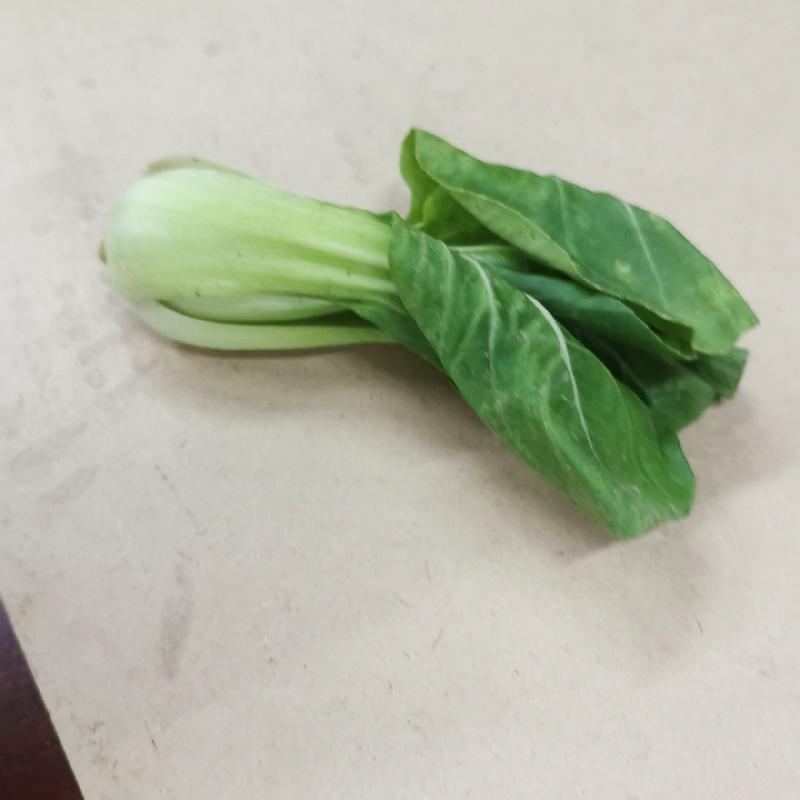green vegatable: (98, 124, 758, 544)
